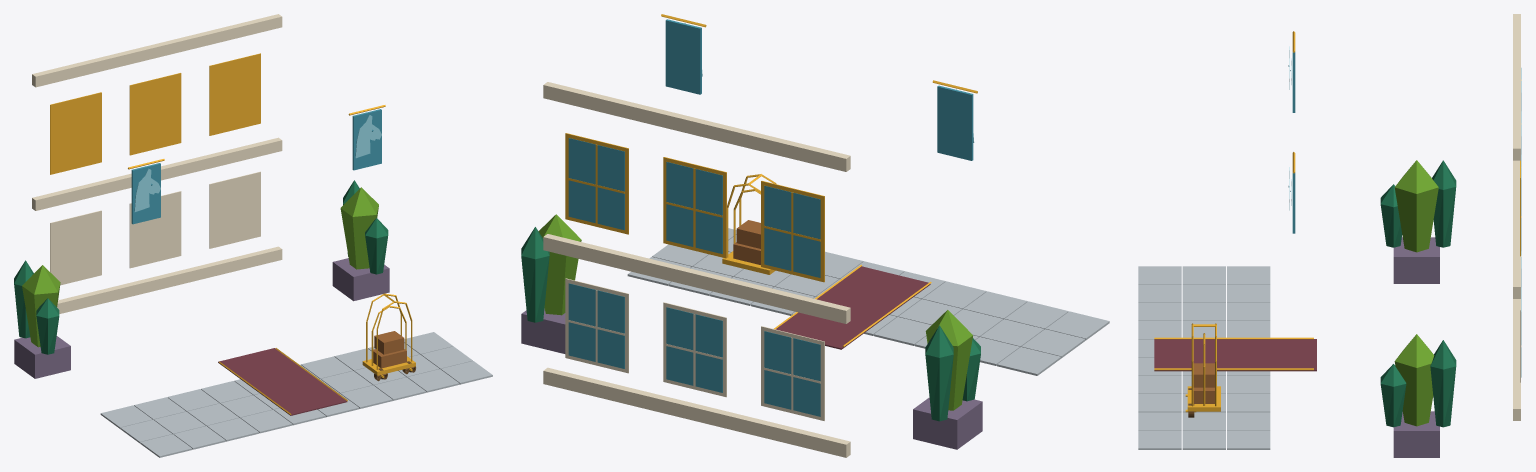
File: decoration.glb
3 renders of one model, left to right at view 1: azimuth 30°, elevation 25°; view 2: azimuth 150°, elevation 25°; view 3: azimuth 270°, elevation 25°, orthographic. The views are drawn at different scales.
Parts seen in each view (by area): view 1: 16_ComparisonReview_DetailCorrections, 16_Hotel_SignsCarpetAndLuggage, 16_R2C_Hotel_HorseBannersAndTrolley, 16_Hotel_FacetedTopiary; view 2: 16_ComparisonReview_DetailCorrections, 16_Hotel_SignsCarpetAndLuggage, 16_R2C_Hotel_HorseBannersAndTrolley, 16_Hotel_FacetedTopiary; view 3: 16_Hotel_SignsCarpetAndLuggage, 16_R2C_Hotel_HorseBannersAndTrolley, 16_Hotel_FacetedTopiary, 16_ComparisonReview_DetailCorrections.
Part boxes in pixels (bbox=[...]): 16_ComparisonReview_DetailCorrections: bbox=[32, 14, 282, 313]; 16_Hotel_SignsCarpetAndLuggage: bbox=[14, 105, 492, 457]; 16_R2C_Hotel_HorseBannersAndTrolley: bbox=[14, 115, 412, 369]; 16_Hotel_FacetedTopiary: bbox=[22, 187, 378, 347]; 16_ComparisonReview_DetailCorrections: bbox=[543, 82, 850, 457]; 16_Hotel_SignsCarpetAndLuggage: bbox=[521, 14, 1109, 449]; 16_R2C_Hotel_HorseBannersAndTrolley: bbox=[521, 23, 980, 421]; 16_Hotel_FacetedTopiary: bbox=[538, 214, 972, 410]; 16_Hotel_SignsCarpetAndLuggage: bbox=[1138, 31, 1439, 457]; 16_R2C_Hotel_HorseBannersAndTrolley: bbox=[1191, 46, 1456, 427]; 16_Hotel_FacetedTopiary: bbox=[1394, 160, 1438, 426]; 16_ComparisonReview_DetailCorrections: bbox=[1513, 14, 1521, 420].
Size of the model in its own units: 1.38 by 0.93 by 1.15.
